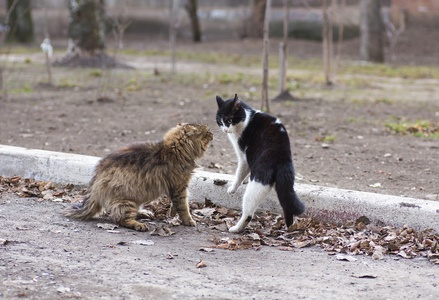cat: (64, 121, 213, 231), (215, 93, 305, 233)
